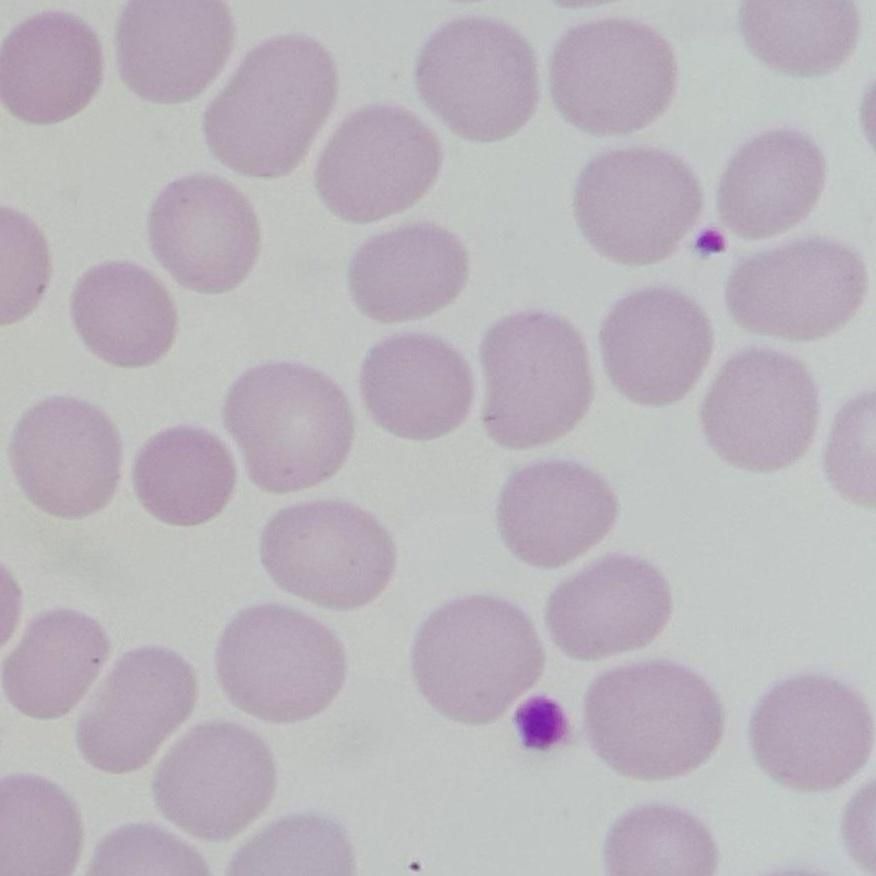Uninfected: (205, 34, 337, 181), (412, 597, 542, 728), (225, 364, 353, 493), (78, 645, 202, 777), (580, 665, 721, 778), (477, 312, 594, 445), (577, 145, 701, 268), (748, 675, 876, 793), (215, 605, 345, 720), (725, 240, 865, 345), (417, 20, 538, 141), (702, 354, 820, 478), (263, 499, 394, 608), (550, 22, 676, 135), (598, 285, 713, 408), (152, 722, 276, 836), (10, 397, 124, 516), (495, 459, 618, 569), (320, 107, 442, 217), (150, 177, 264, 293), (548, 559, 673, 661), (715, 127, 826, 240), (115, 0, 234, 103), (2, 605, 106, 722), (0, 14, 105, 128), (358, 334, 474, 436), (350, 225, 468, 325), (70, 264, 177, 368), (138, 425, 236, 524), (738, 0, 854, 76), (0, 772, 84, 876), (608, 805, 720, 876)
